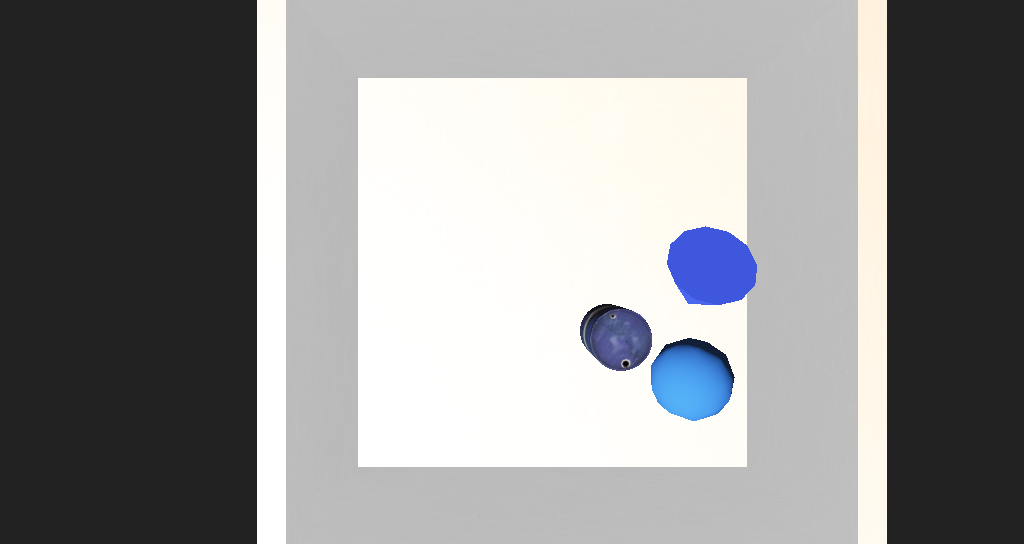cone: (529, 289, 576, 322)
cylinder: (583, 246, 657, 308)
sphere: (583, 301, 643, 348)
